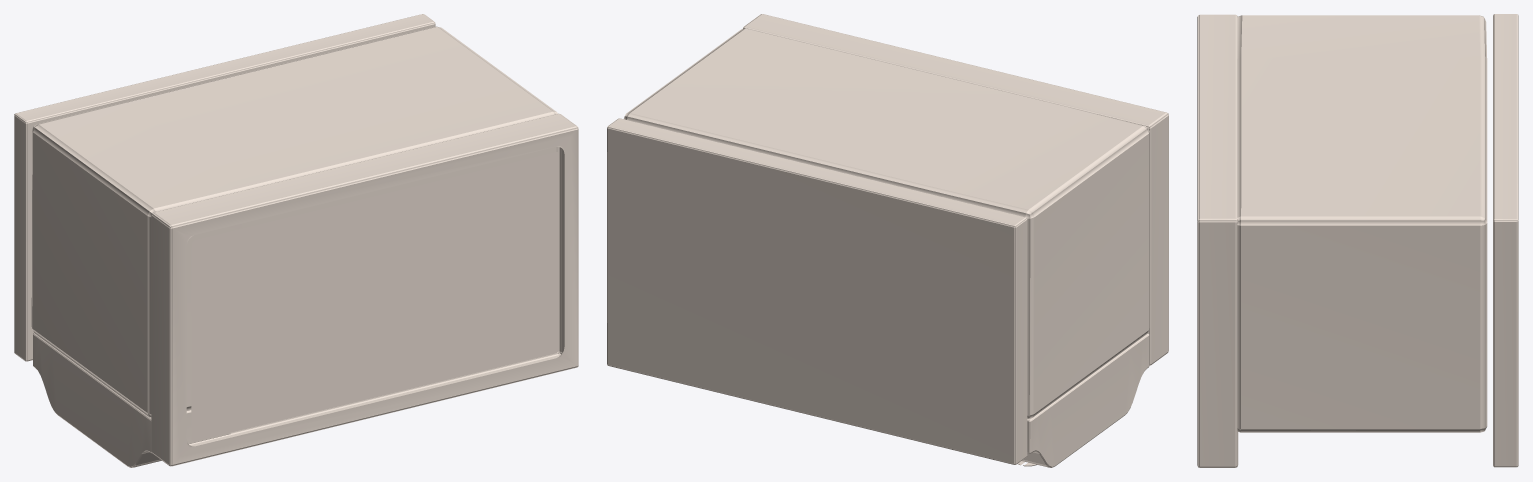
Rendered from BodymeshMicrowaveC1_0_GeomSubset_0.obj.
3 renders of one model, left to right at view 1: azimuth 30°, elevation 25°; view 2: azimuth 150°, elevation 25°; view 3: azimuth 270°, elevation 25°, orthographic. The views are drawn at different scales.
Parts seen in each view (by area): view 1: BodymeshMicrowaveC1_0_GeomSubset_0; view 2: BodymeshMicrowaveC1_0_GeomSubset_0; view 3: BodymeshMicrowaveC1_0_GeomSubset_0.
Part boxes in pixels (x1,y1,x2,y2): BodymeshMicrowaveC1_0_GeomSubset_0: (14,14,578,467); BodymeshMicrowaveC1_0_GeomSubset_0: (607,14,1168,467); BodymeshMicrowaveC1_0_GeomSubset_0: (1197,14,1518,467).
Bounding box in the file's own units: 0.6053 × 0.4049 × 0.3969.
